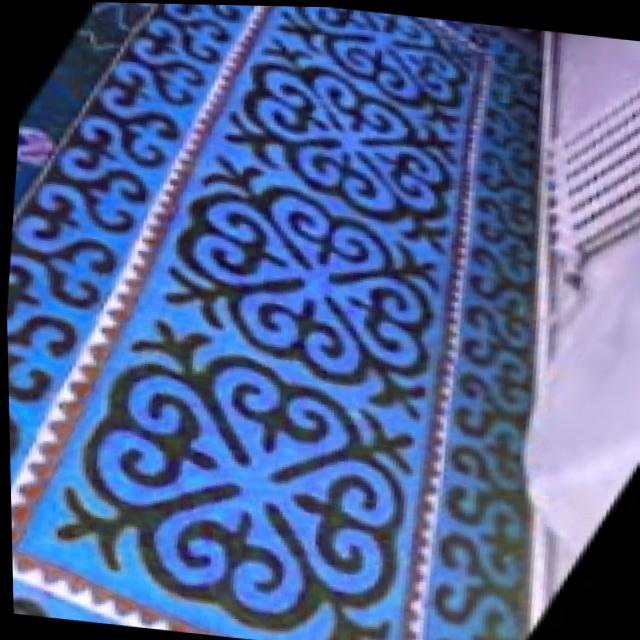Unity: (27, 309, 418, 640), (148, 143, 445, 433), (215, 30, 456, 255), (267, 6, 482, 140)
